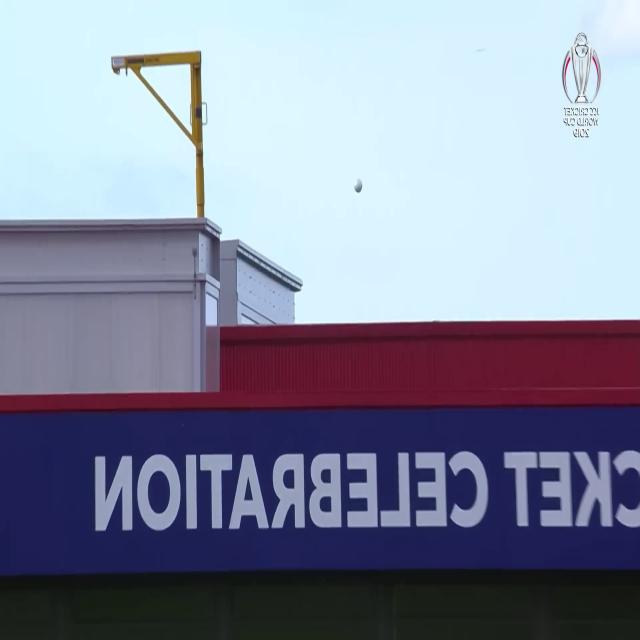ball: (350, 172, 366, 200)
